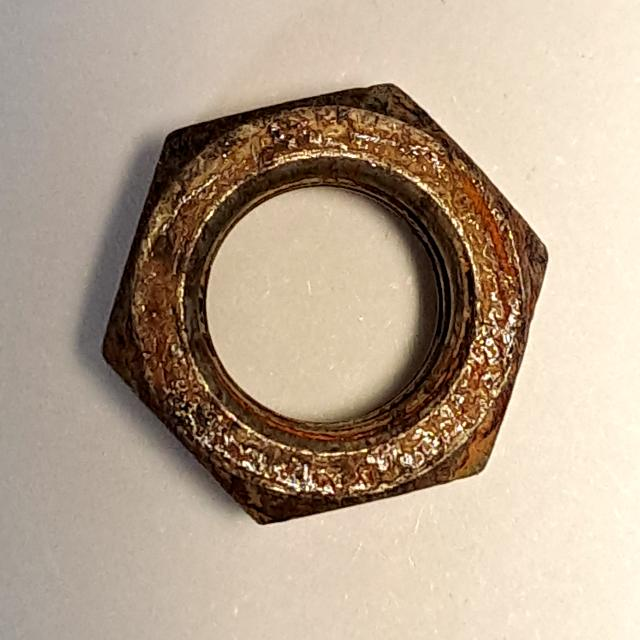Rust: (79, 62, 561, 547)
